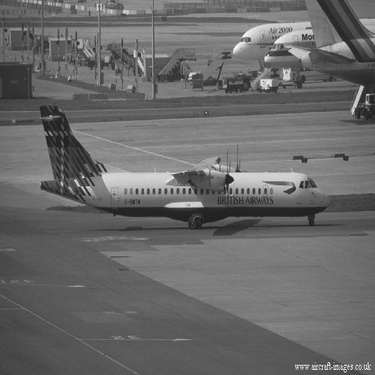airplane: (13, 96, 340, 251), (270, 1, 373, 119), (205, 9, 373, 69), (229, 18, 372, 77)
